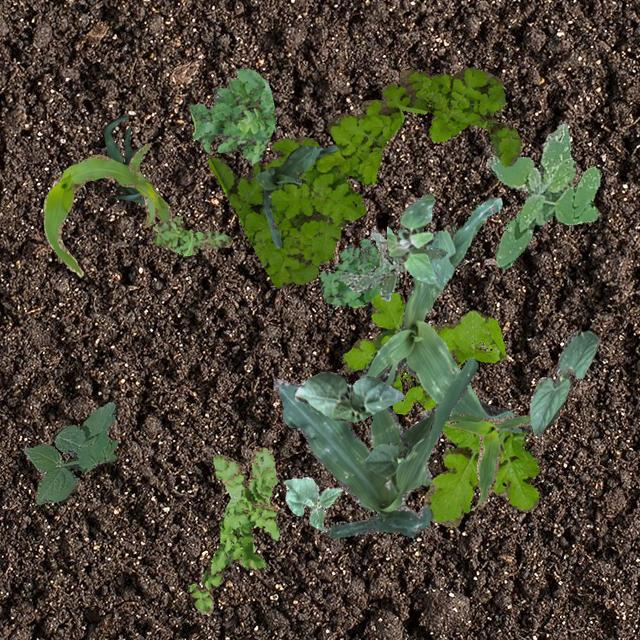crop: (358, 196, 530, 432), (272, 356, 476, 536), (42, 142, 170, 276), (418, 408, 530, 508), (255, 144, 338, 246), (528, 330, 598, 434), (292, 370, 403, 420), (362, 412, 433, 476), (102, 114, 144, 204), (282, 476, 342, 532)
weed: (207, 66, 520, 288), (342, 290, 538, 526), (486, 120, 600, 268), (186, 446, 278, 614), (22, 401, 116, 504), (188, 66, 274, 165), (338, 228, 446, 300), (386, 194, 436, 282), (318, 238, 382, 306), (150, 216, 232, 254)
